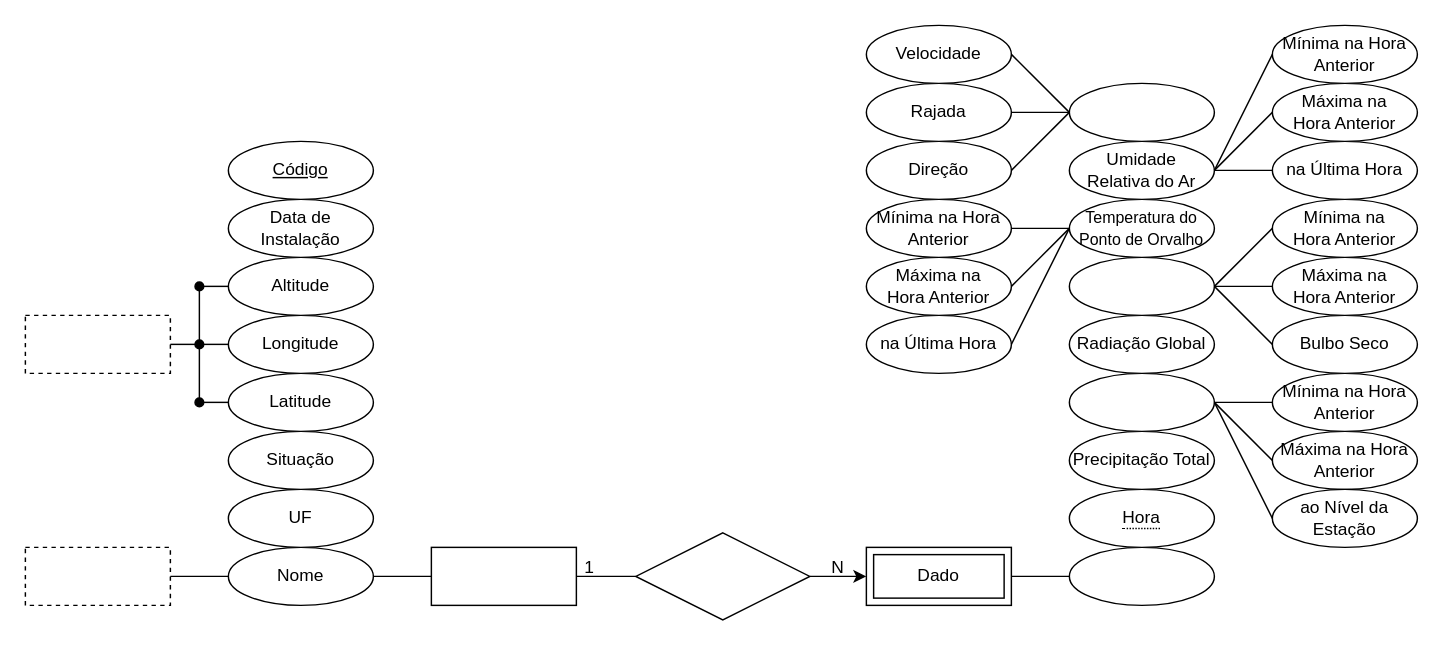
Image size: 1443x645. Some labels were removed from this diagram. Each missing label, with the box of its shape:
Data: (1068, 546, 1214, 605)
Estação Automática: (430, 546, 576, 605)
Pressão Atmosférica: (1068, 372, 1214, 431)
Registra: (634, 531, 810, 620)
Temperatura do Ar: (1068, 256, 1214, 315)
UN_Localizacao_ de_Estacao_Aut: (24, 314, 170, 373)
UN_Nome_de_ Estacao_Aut: (24, 546, 170, 605)
Vento: (1068, 82, 1214, 141)
